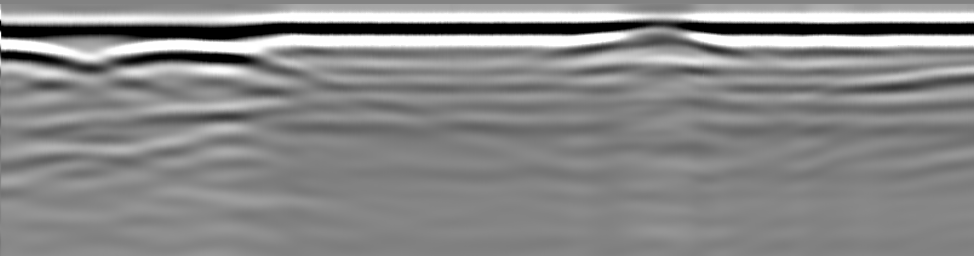pipe: (581, 19, 745, 58)
steel: (98, 37, 293, 77)
